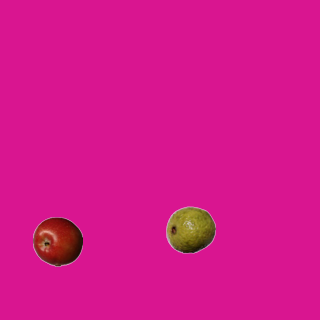Apple Braeburn: (32, 216, 82, 266)
Guava: (165, 204, 215, 254)
